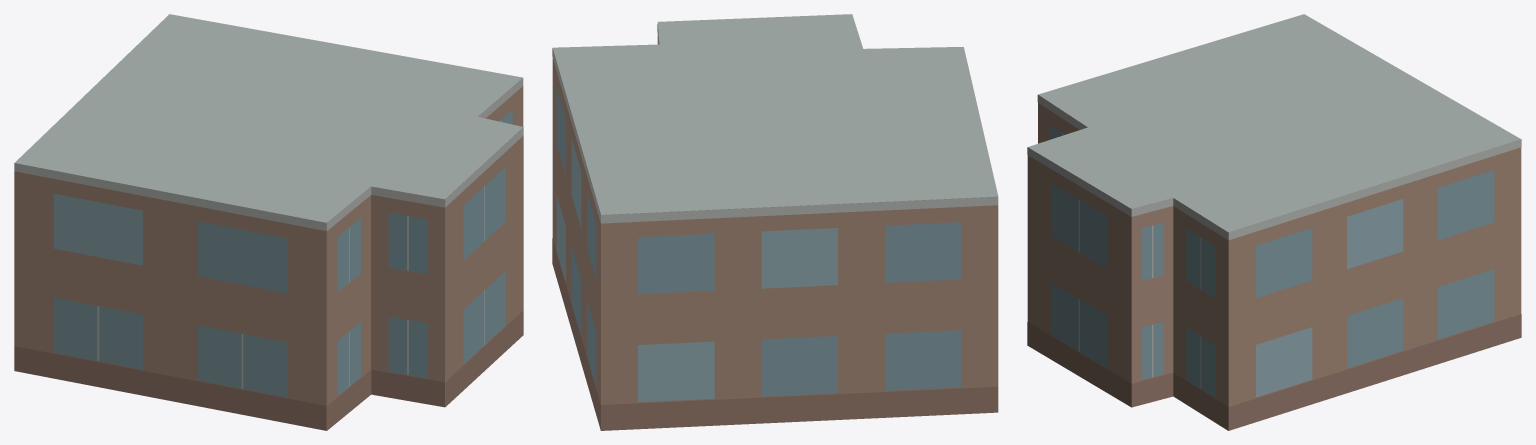
The model's file is survey-upis-32691445.glb.
3 views of the same model, side by side, from view 1: azimuth 30°, elevation 25°; view 2: azimuth 150°, elevation 25°; view 3: azimuth 270°, elevation 25° (orthographic). The views are drawn at different scales.
Visible parts, largest first — view 1: survey-upis-32691445.tmp; view 2: survey-upis-32691445.tmp; view 3: survey-upis-32691445.tmp.
Part boxes in pixels (x1,y1,x2,y2): survey-upis-32691445.tmp: (14,14,523,430); survey-upis-32691445.tmp: (552,14,998,430); survey-upis-32691445.tmp: (1027,14,1521,430).
Bounding box in the file's own units: 14.41 × 6.1 × 13.77.
